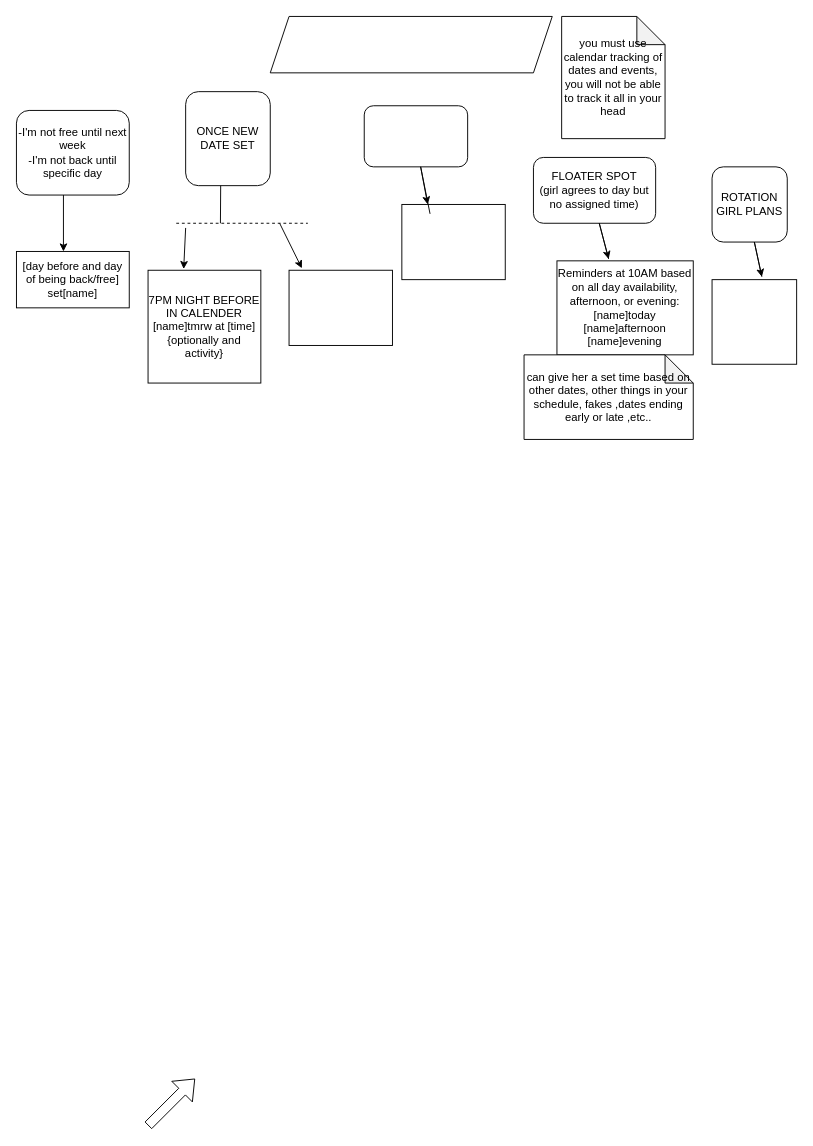
The diagram is 813 pixels wide and 1146 high, and some of its shapes have lost their labels. The shapes that lost their labels are listed below. From the top down, each one's centre as x and y in pixels, then its label:
the point at 410,44: Calendar Mangement
the point at 415,136: -need to check my schedule on day[x] -I will know closer to the weekend
the point at 453,242: Based on the day she says ,put a reminder for: check in with[name]
the point at 340,307: 10-11 AM DAY OF IN CALENDER [name][time]{optionally add activity}
the point at 754,321: 10-11 AM Day of IN CALENDER [name][time] {optionally add activity}
